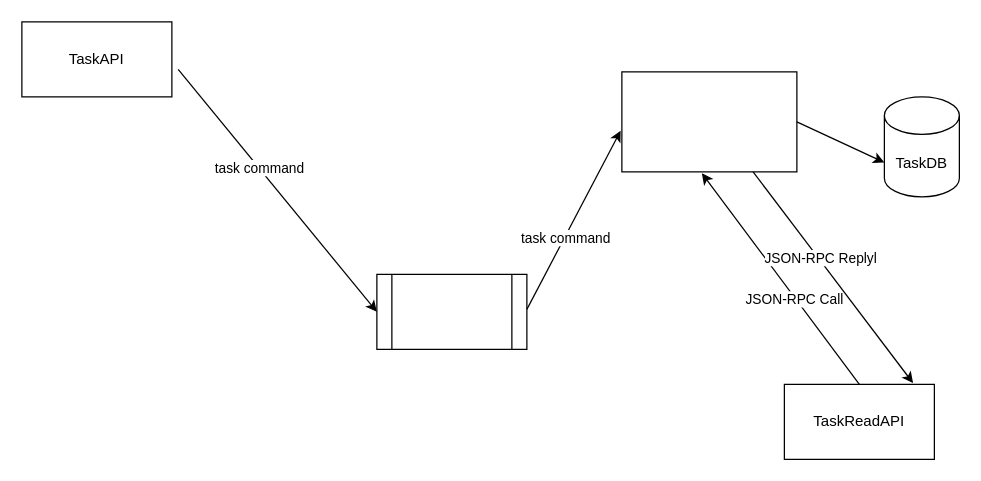
Some shapes in this 981 by 481 pixel diagram are drawn without their labels. Each missing label, with the centre of its shape:
task queue: point (451, 311)
TaskStore: point (709, 121)
